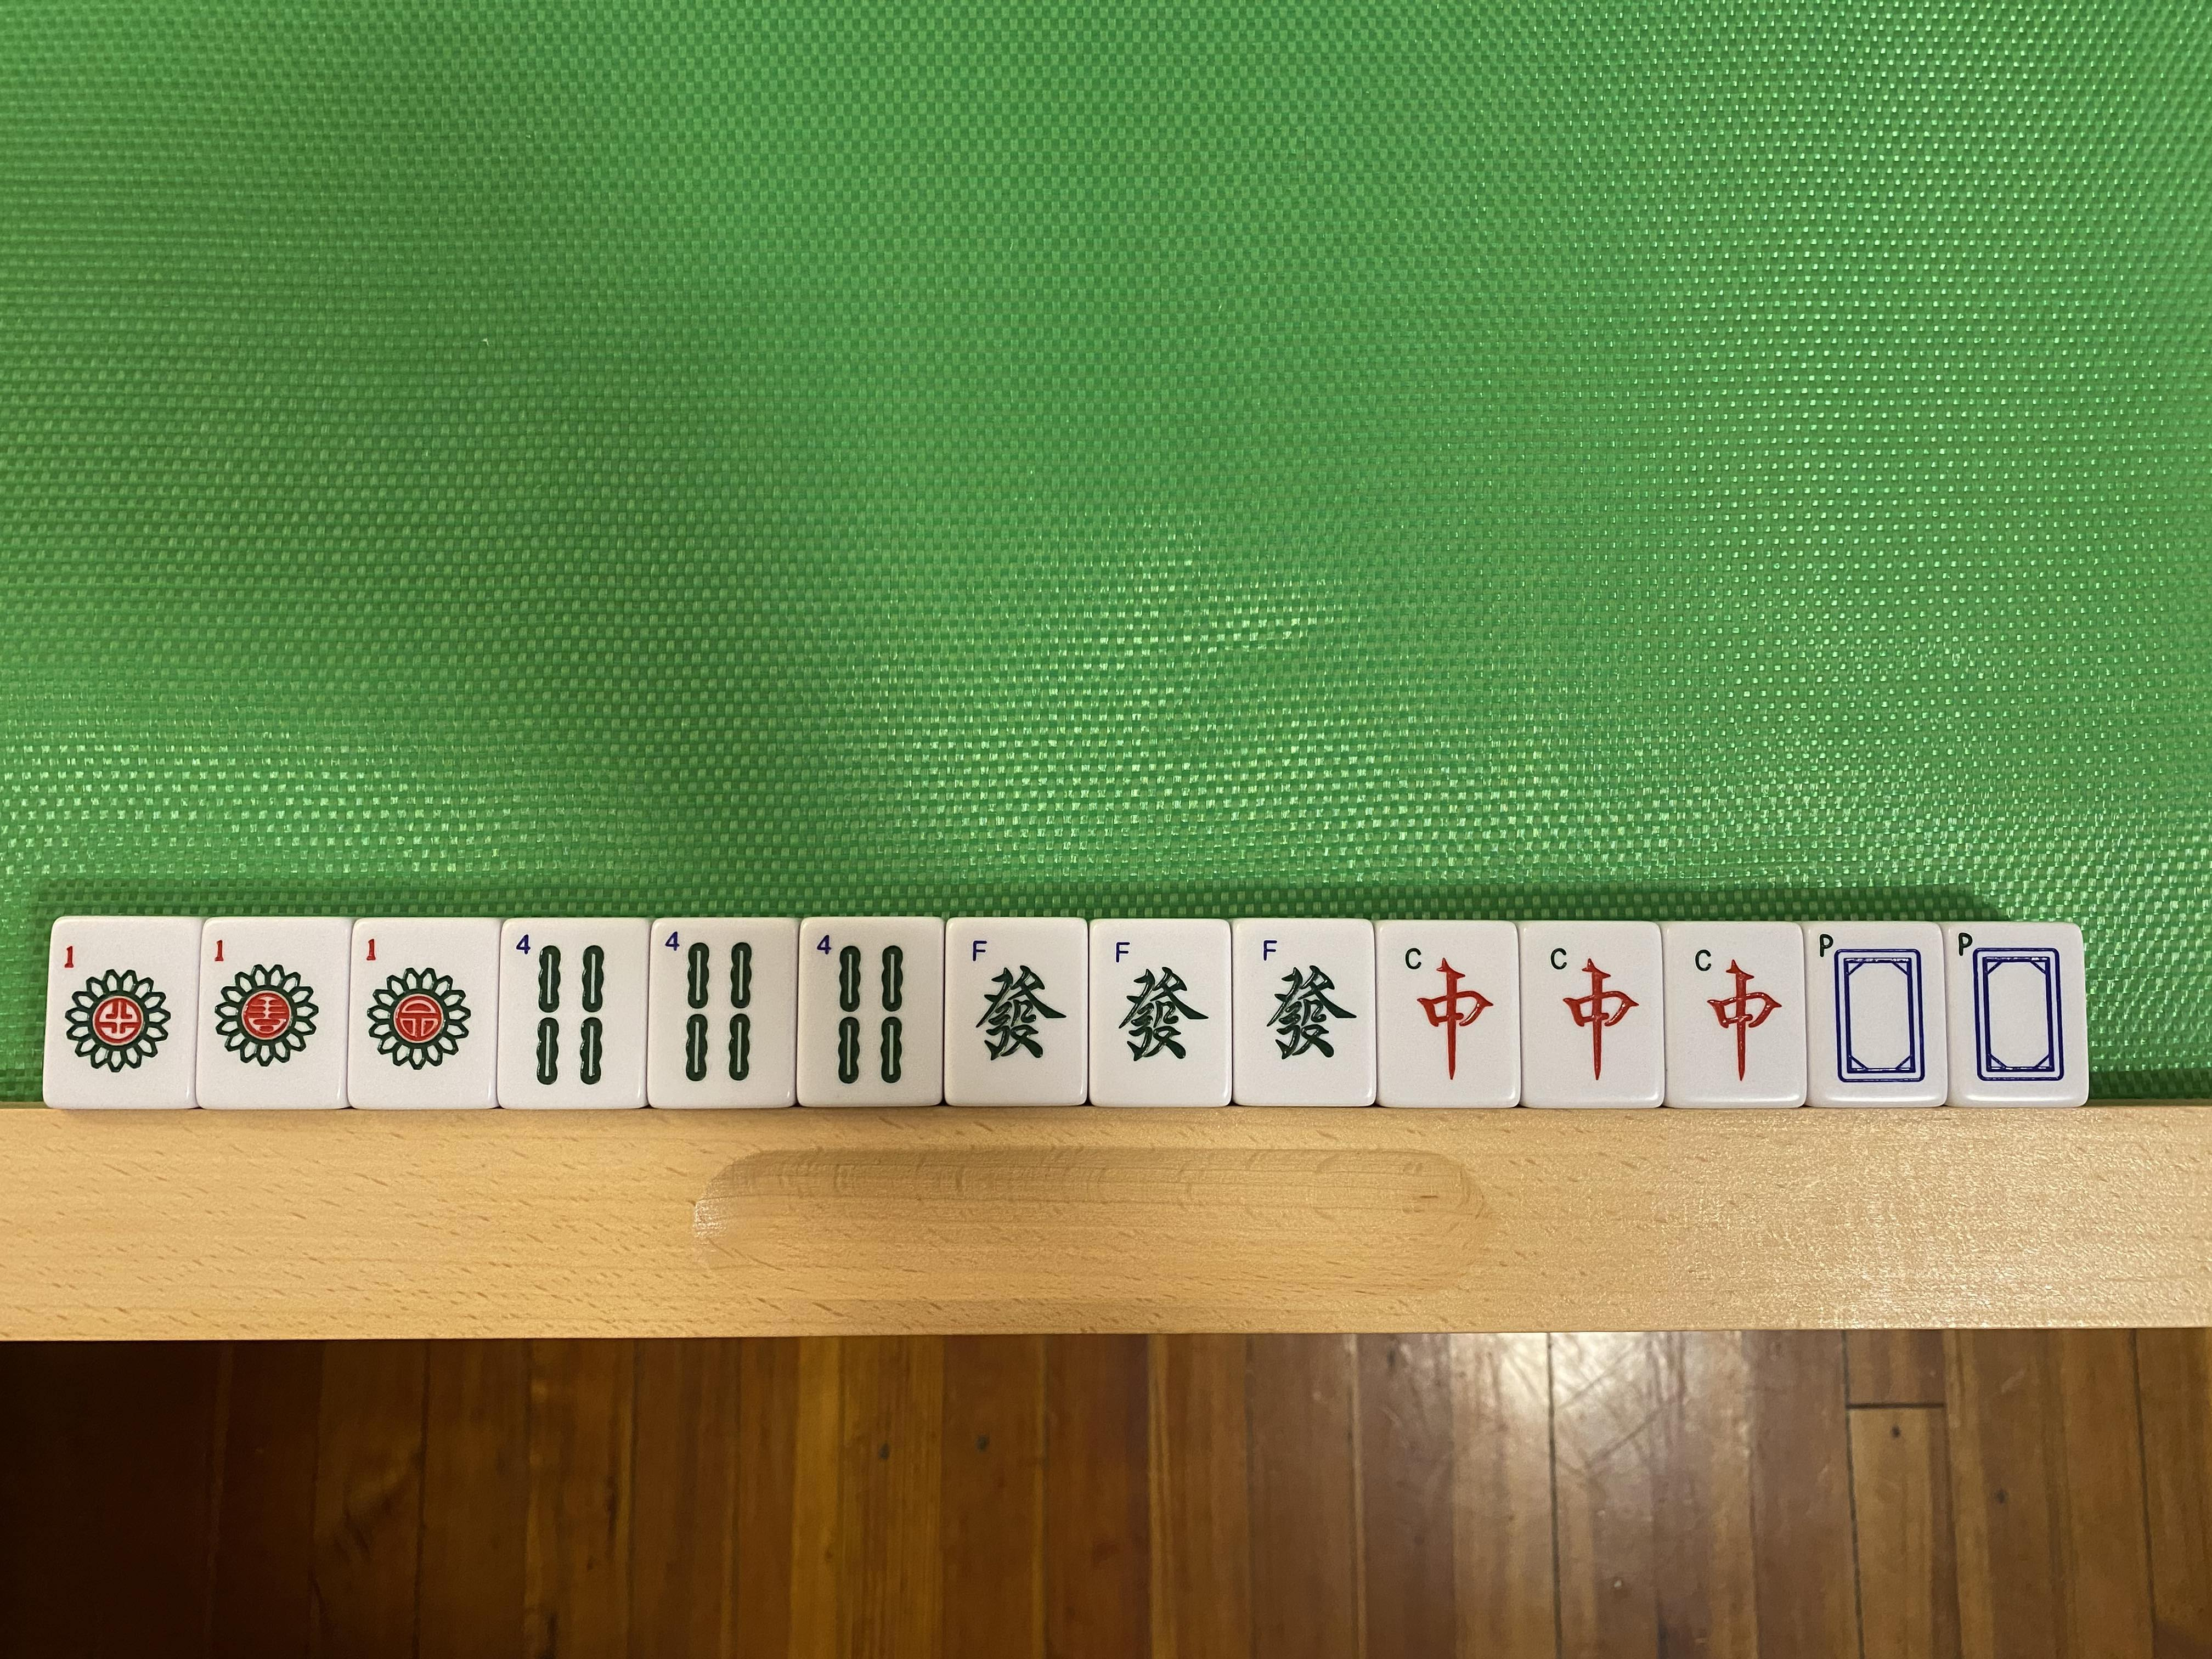bamboo-four: (798, 917, 944, 1105), (503, 920, 646, 1107), (651, 922, 796, 1105)
circle-one: (352, 922, 498, 1107), (54, 920, 195, 1107), (204, 920, 343, 1108)
honor-blue_dragon: (1946, 925, 2090, 1101), (1808, 922, 1944, 1105)
honor-green_dragon: (948, 918, 1089, 1105), (1090, 924, 1231, 1103), (1235, 922, 1372, 1105)
honor-red_dragon: (1376, 920, 1519, 1107), (1665, 925, 1804, 1105), (1521, 925, 1660, 1105)
